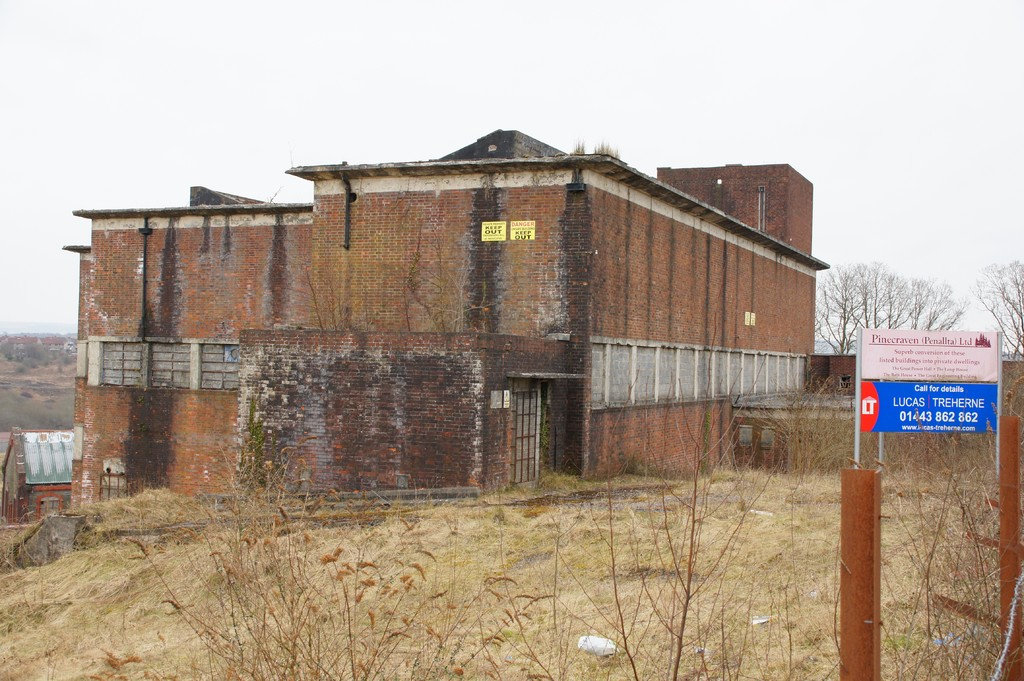Tree: (818, 232, 983, 356), (975, 257, 1023, 357)
